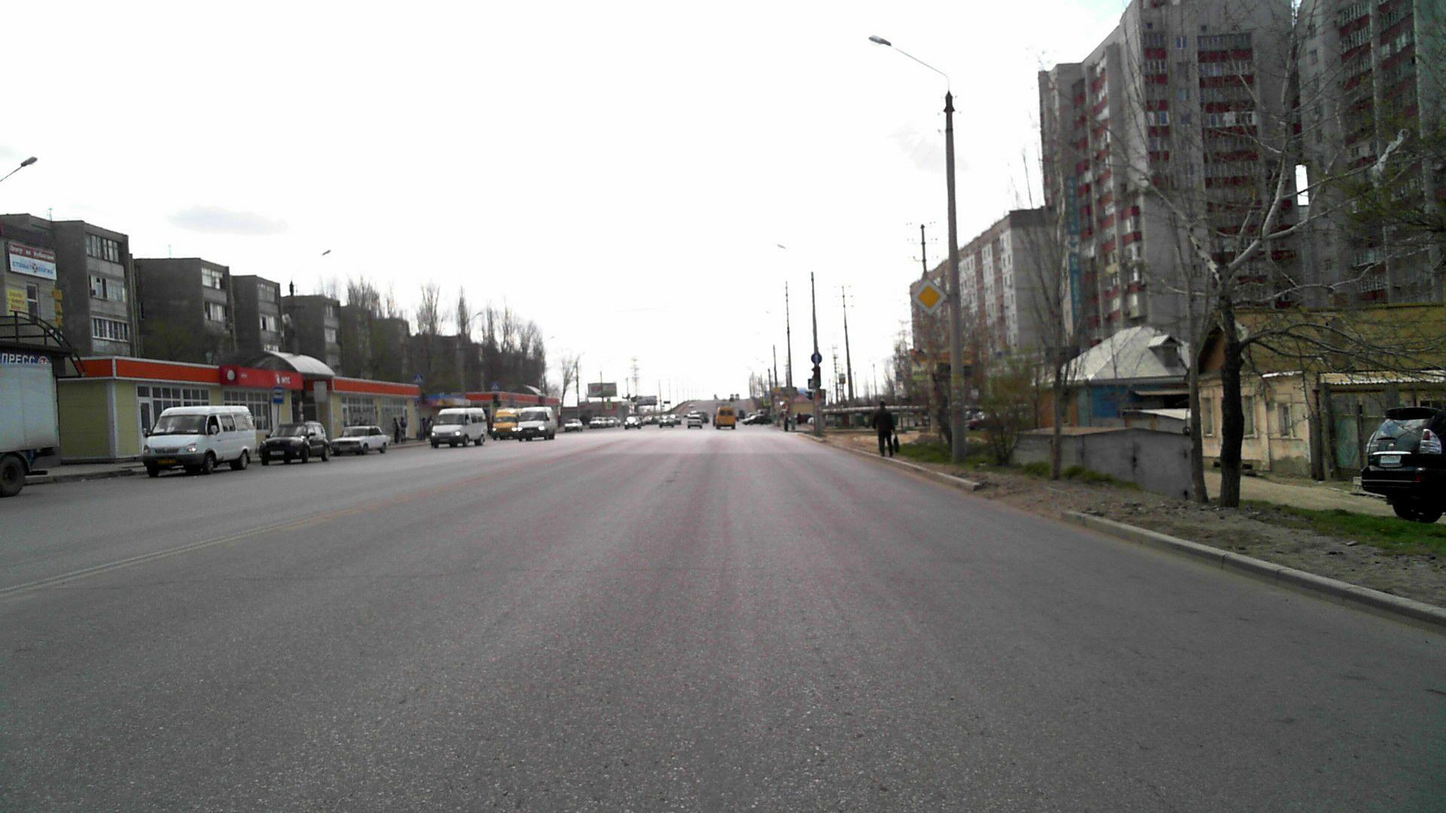road_sign: (909, 276, 948, 318)
